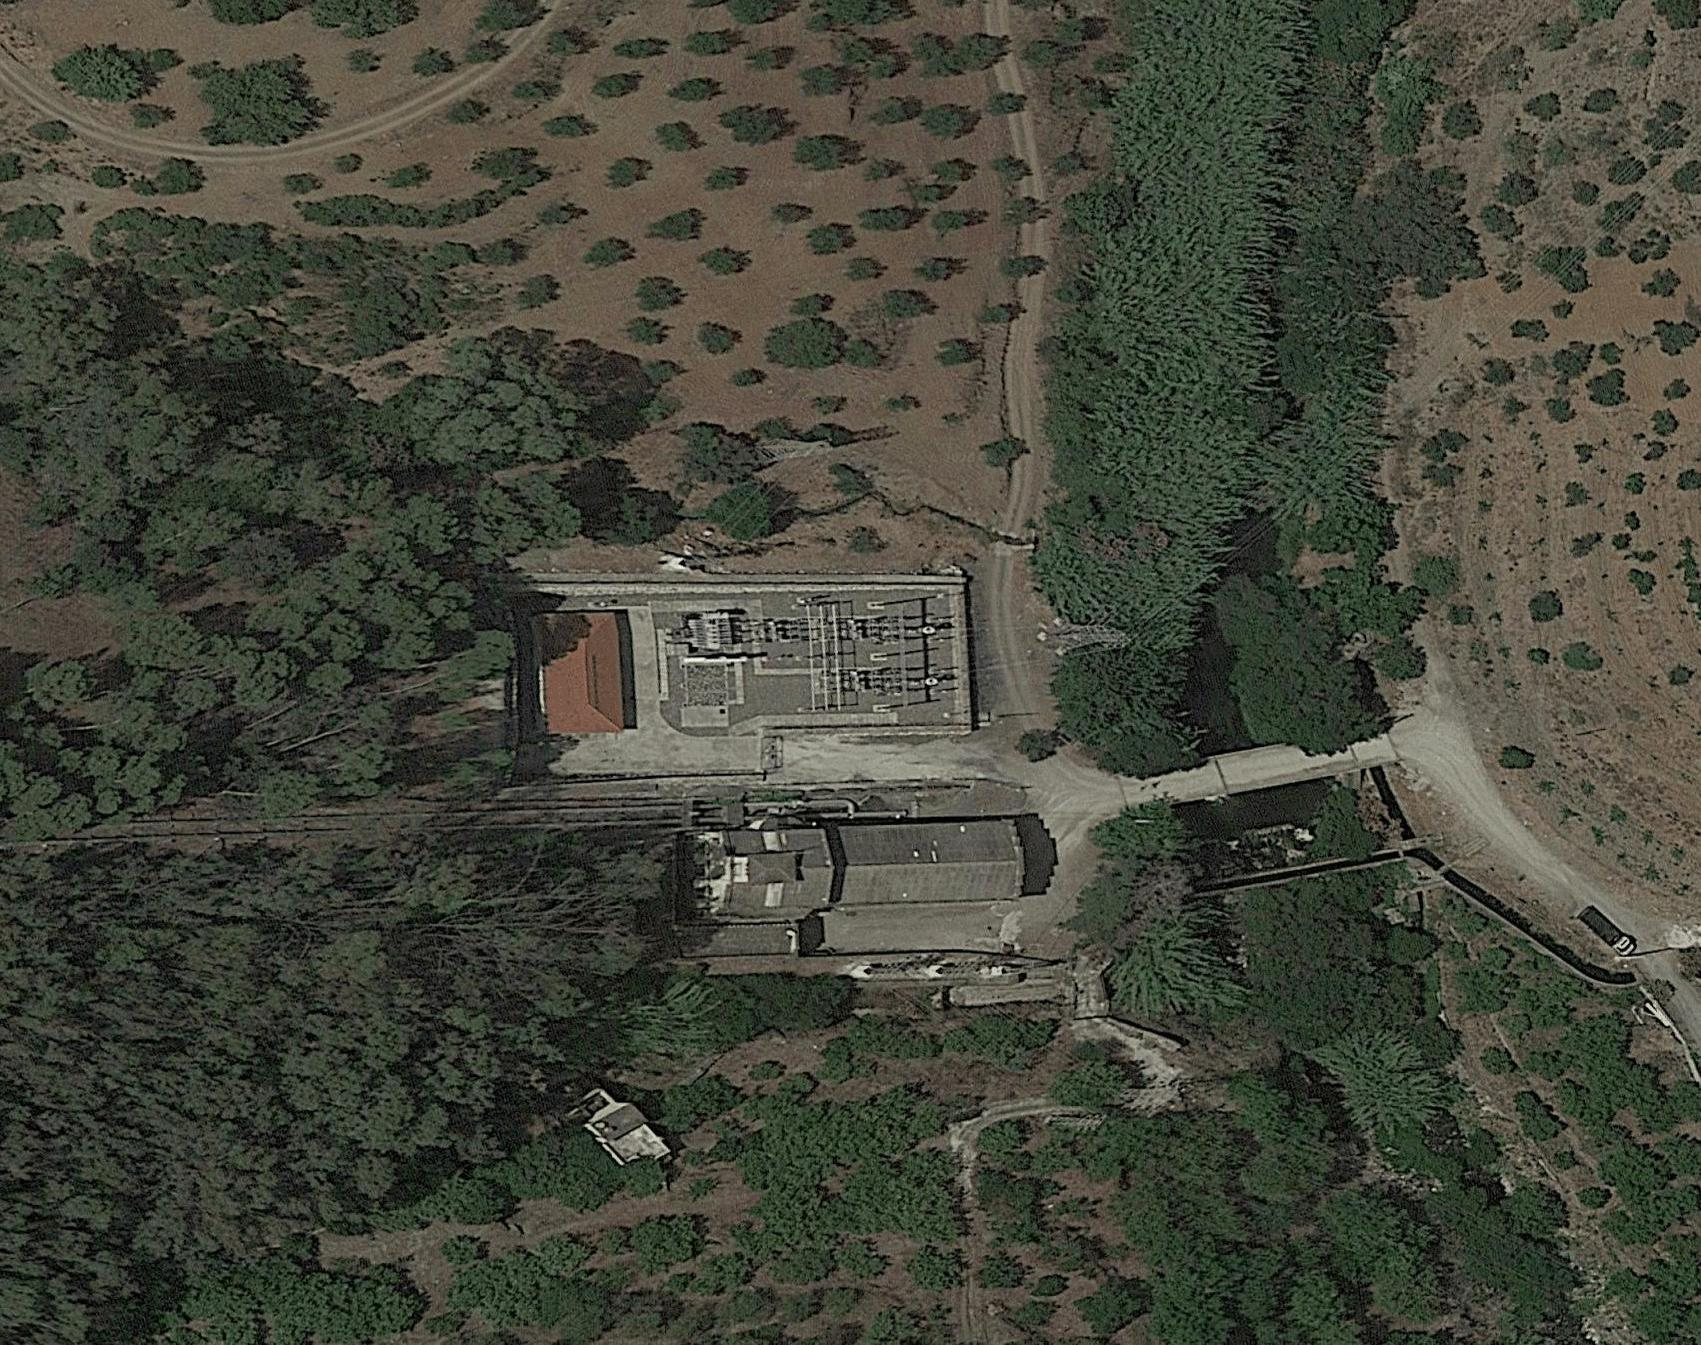substation: (656, 590, 968, 715)
